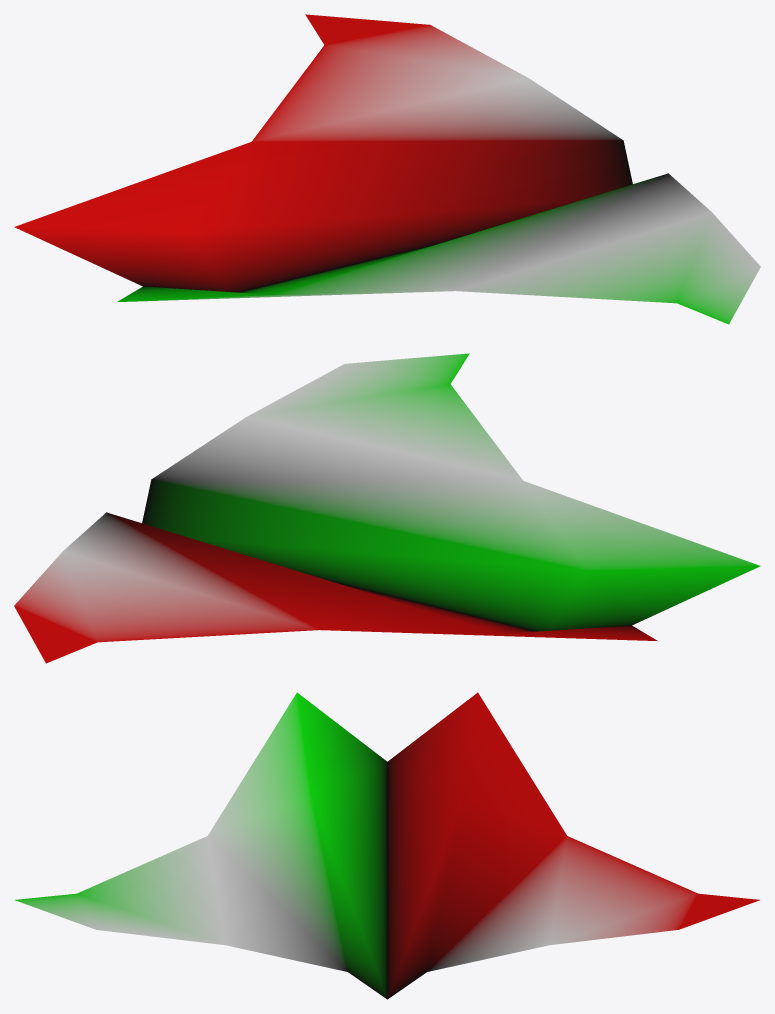
3 renders of one model, top to bottom at view 1: azimuth 30°, elevation 25°; view 2: azimuth 150°, elevation 25°; view 3: azimuth 270°, elevation 25°, orthographic. The views are drawn at different scales.
Parts seen in each view (by area): view 1: SM_VFX_Butterfly_v02_LOD0; view 2: SM_VFX_Butterfly_v02_LOD0; view 3: SM_VFX_Butterfly_v02_LOD0.
Part boxes in pixels (<box>): SM_VFX_Butterfly_v02_LOD0: <box>14,14,760,324</box>; SM_VFX_Butterfly_v02_LOD0: <box>14,353,760,663</box>; SM_VFX_Butterfly_v02_LOD0: <box>15,692,759,999</box>.
Size of the model in its own units: 0.0799 by 0.00925 by 0.1009.
